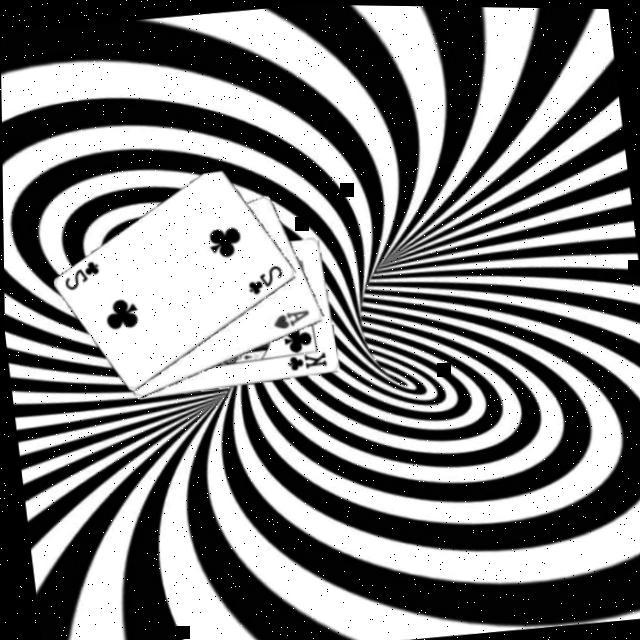2C: (244, 259, 288, 297), (60, 255, 104, 293)
AH: (269, 304, 313, 332)
KC: (279, 342, 329, 372)
